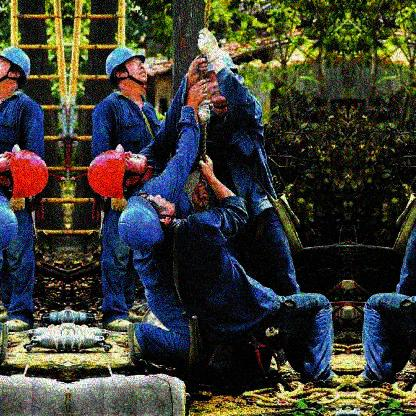helmet: (117, 191, 176, 252), (87, 144, 149, 198), (1, 143, 51, 201), (103, 47, 149, 90), (206, 50, 240, 105), (1, 46, 31, 94)
